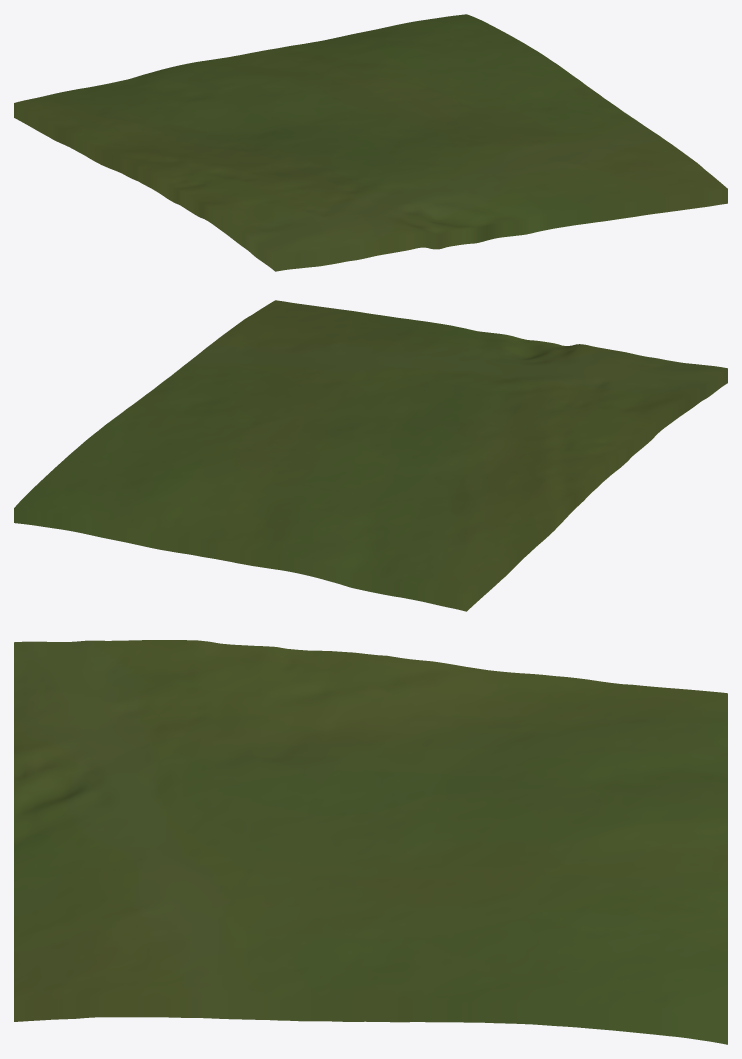
The model's file is terrain_7_-10.glb.
The picture shows the model from 3 angles, top to bottom: view 1: azimuth 30°, elevation 25°; view 2: azimuth 150°, elevation 25°; view 3: azimuth 270°, elevation 25°; orthographic projection. The views are drawn at different scales.
Parts seen in each view (by area): view 1: terrain_7_-10; view 2: terrain_7_-10; view 3: terrain_7_-10.
Part boxes in pixels (left/top/right/bottom): terrain_7_-10: left=14, top=14, right=727, bottom=271; terrain_7_-10: left=14, top=300, right=727, bottom=611; terrain_7_-10: left=14, top=640, right=727, bottom=1044.
Bounding box in the file's own units: 256 × 40.78 × 256.
